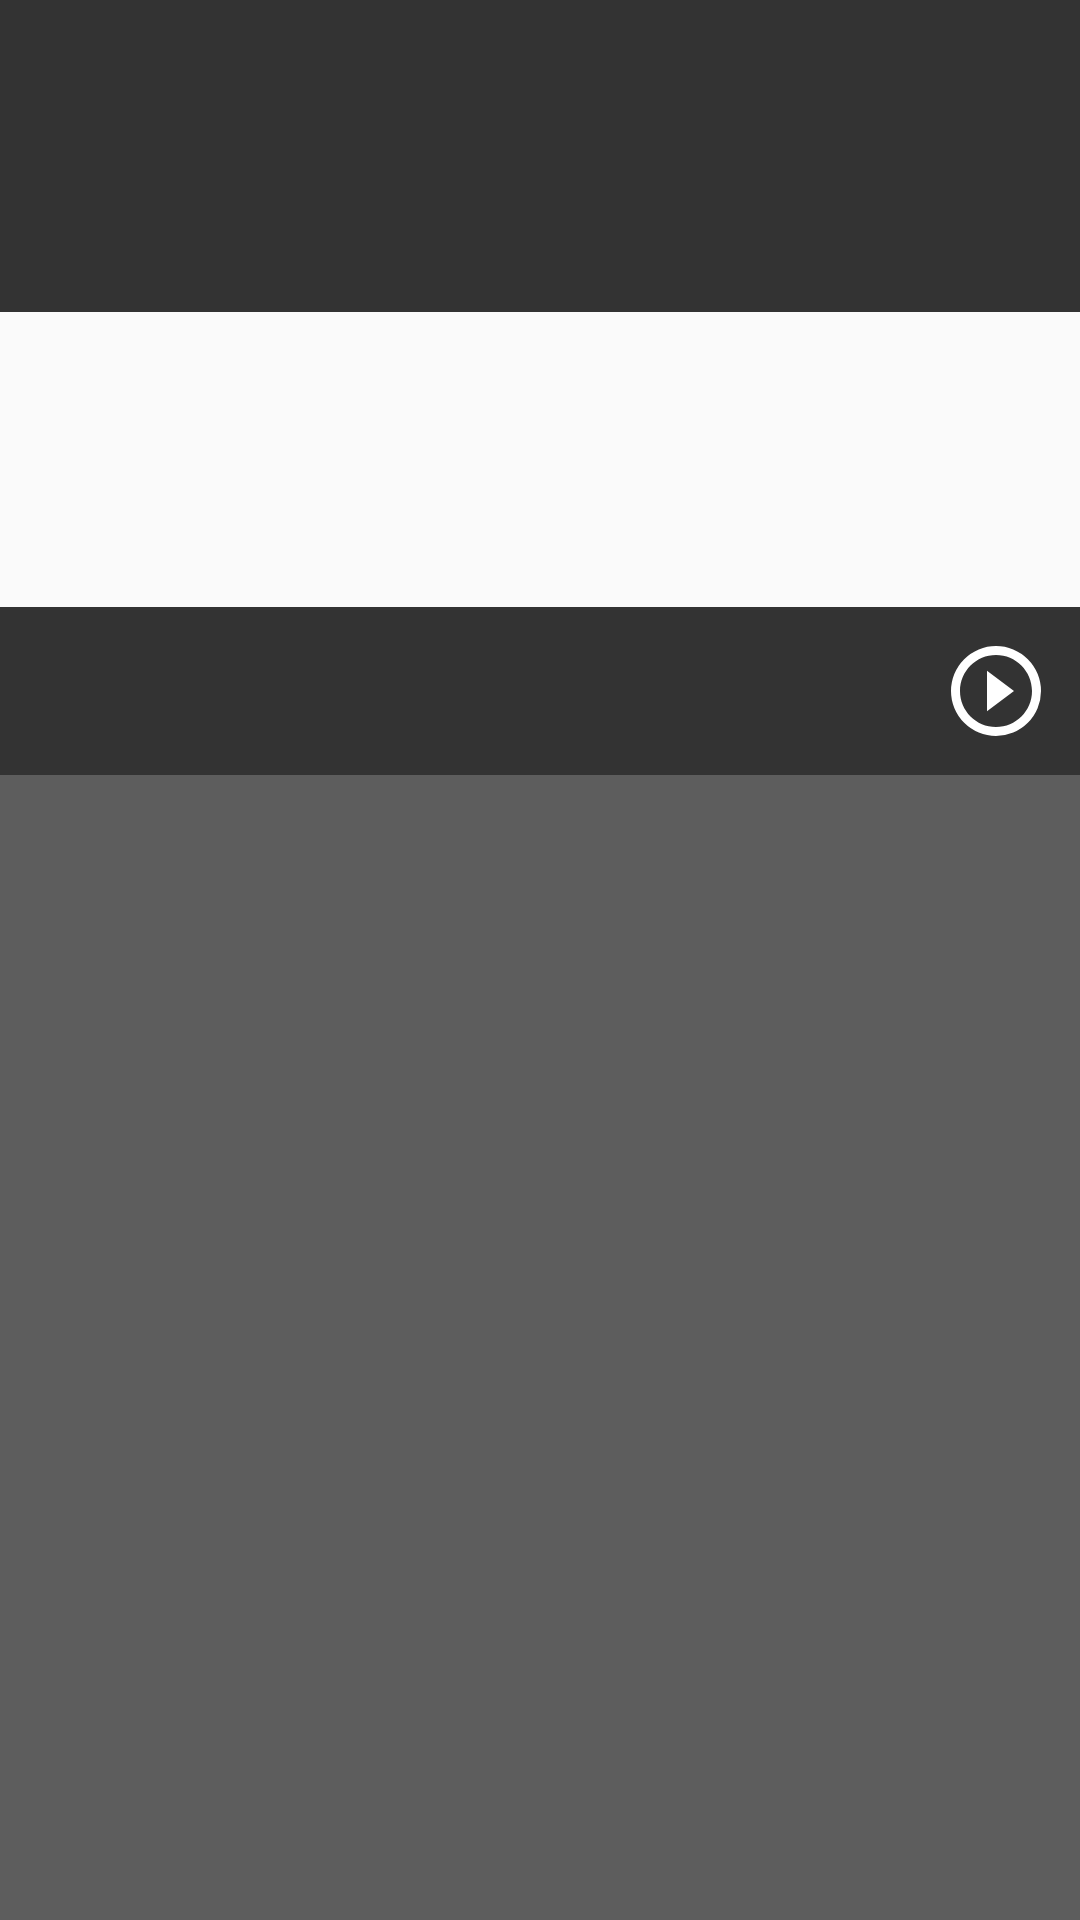

Where icons sit on this 1080 x 1920 app screen, as bbox=[x1, y1, x2, y2]:
play pause: bbox=[951, 646, 1041, 736]
